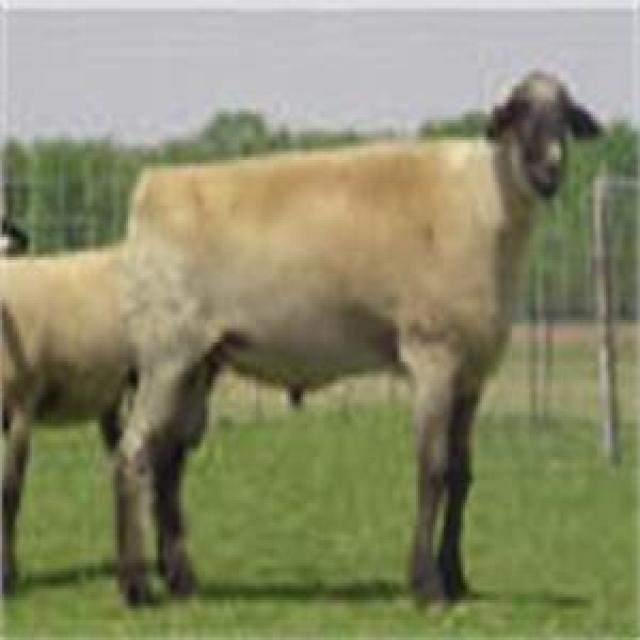sheep: (107, 69, 606, 614)
